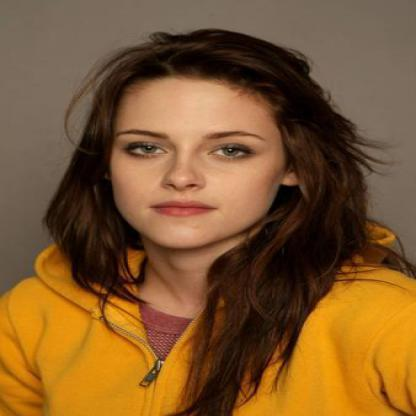long-hair: (20, 246, 388, 307)
